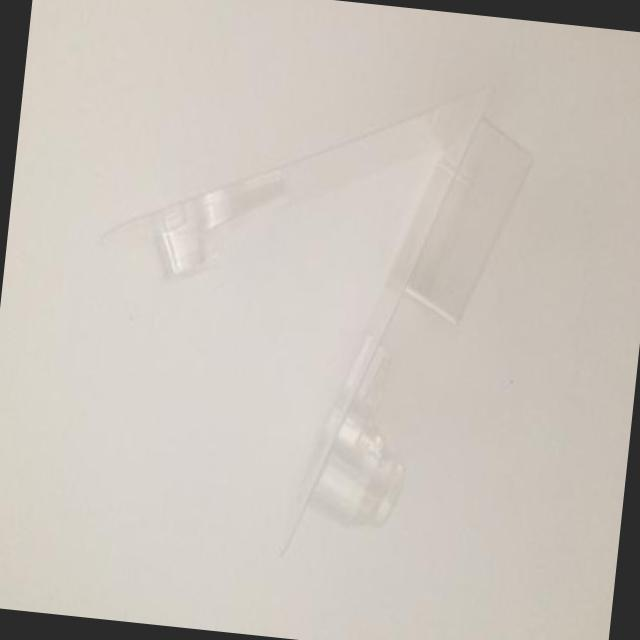Trash: (65, 65, 543, 585)
